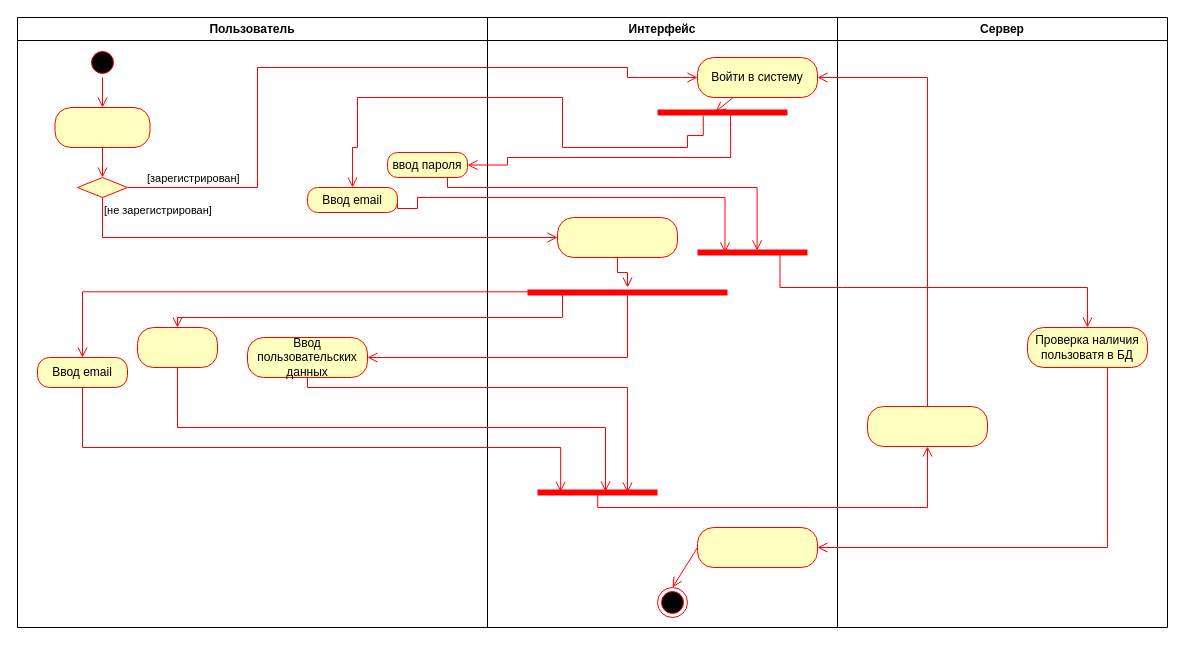
The diagram is 1185 pixels wide and 645 high, and some of its shapes have lost their labels. The centre of each missing label's shape, as x and y in pixels:
Добавление пользователя в БД: the point at 927,426
Открыть страницу: the point at 102,127
регистрация: the point at 617,237
Создание пароля: the point at 177,347
Уведомление об успешном входе: the point at 757,547
